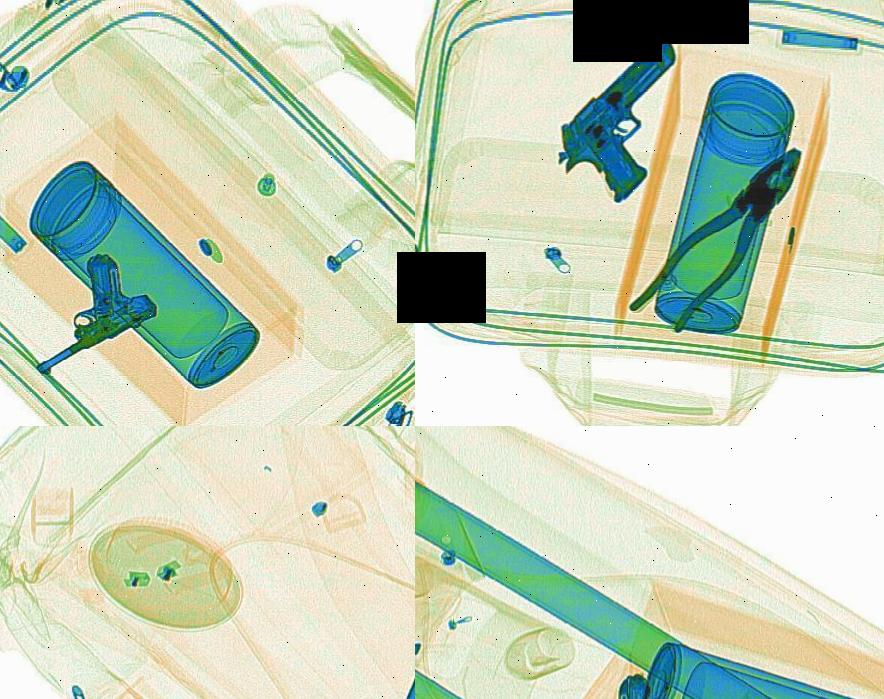Gun: (529, 31, 748, 204), (0, 242, 160, 380), (59, 426, 256, 462), (558, 668, 773, 699)
Pliers: (624, 135, 824, 336)
